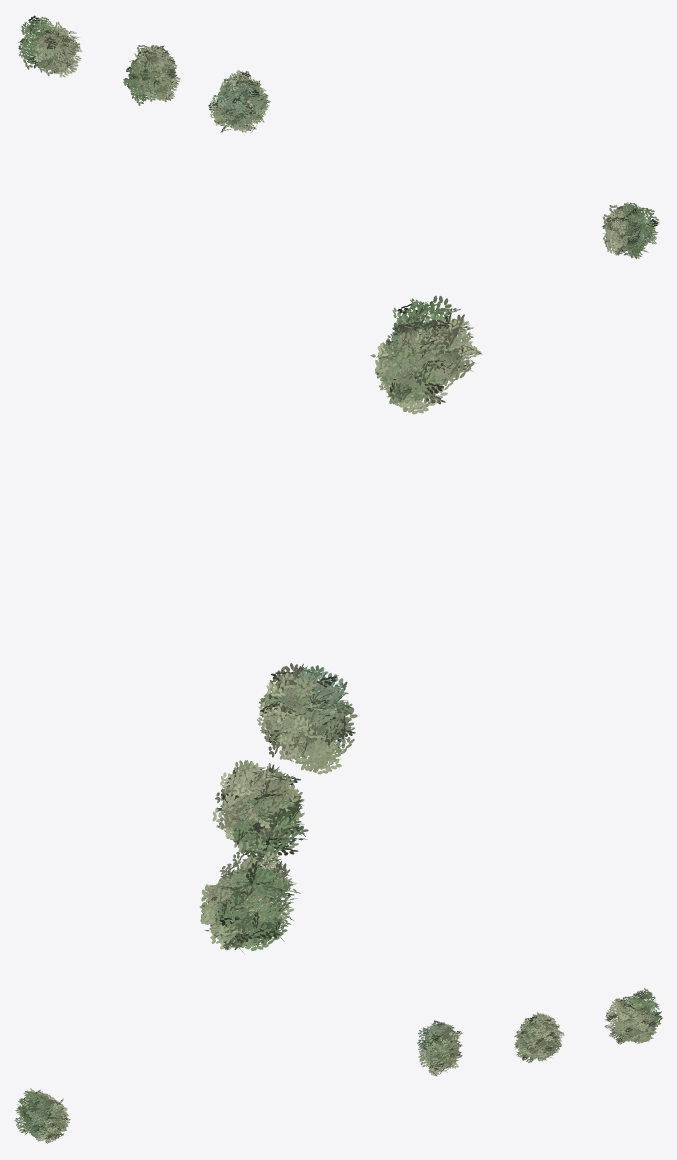
The model's file is campus-tree--6_-6-near.glb.
3 renders of one model, top to bottom at view 1: azimuth 30°, elevation 25°; view 2: azimuth 150°, elevation 25°; view 3: azimuth 270°, elevation 25°, orthographic. The views are drawn at different scales.
Parts seen in each view (by area): view 1: Campus leaf canopy; view 2: Campus leaf canopy; view 3: Campus leaf canopy.
Boxes of the visible parts, x1,y1,x2,y2 form: Campus leaf canopy: (18,15,659,258); Campus leaf canopy: (199,295,481,954); Campus leaf canopy: (14,988,662,1143).
Bounding box in the file's own units: 31.23 × 6.74 × 68.7.
Materials: 1 (1 with a texture image).
